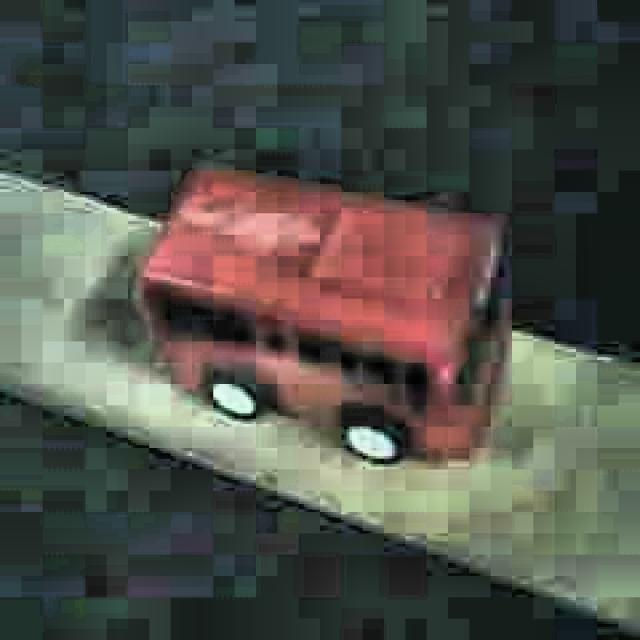bus: (138, 162, 512, 470)
